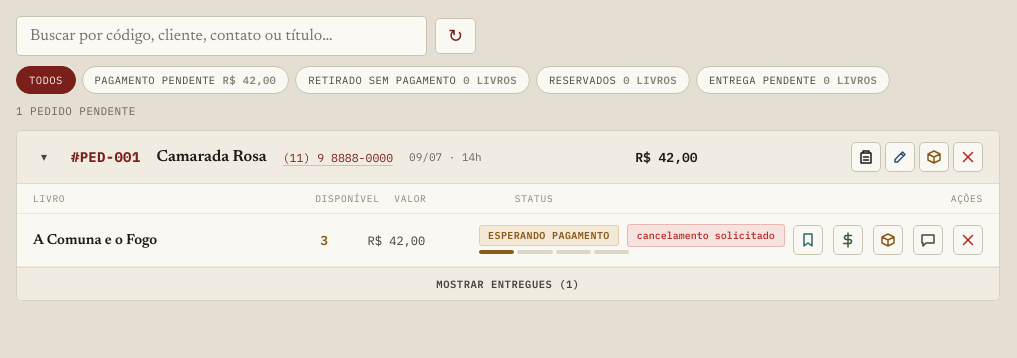
Backoffice — Pedidos (linhas por unidade) › unidade cancelada em pedido misto: pill Cancelado, sem ações; badge de solicitação
Check: the text "Camarada Rosa" is shown, box [156,149,267,165]
Note: cancelada fica recolhida: expande o card pra ver
Click the button "Mostrar entregues (1)": (508, 284) [17,268,999,300]
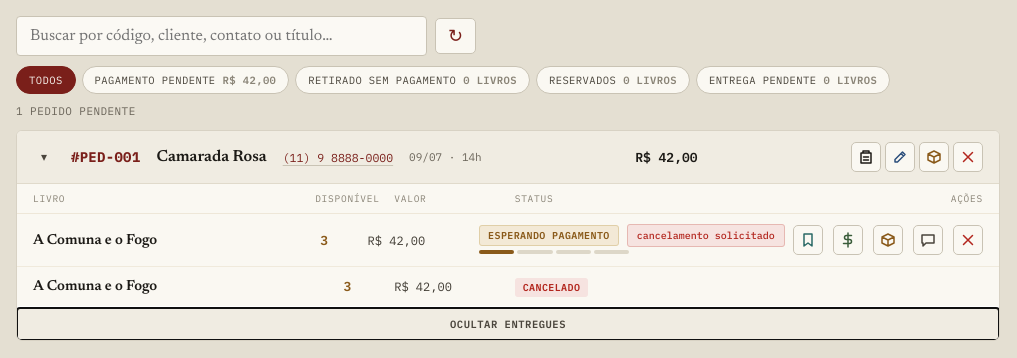
Check: the number of buttons named "reservar" is 1, box [793,225,823,255]
Check: the text "Cancelado" is shown, box [515,278,588,296]
